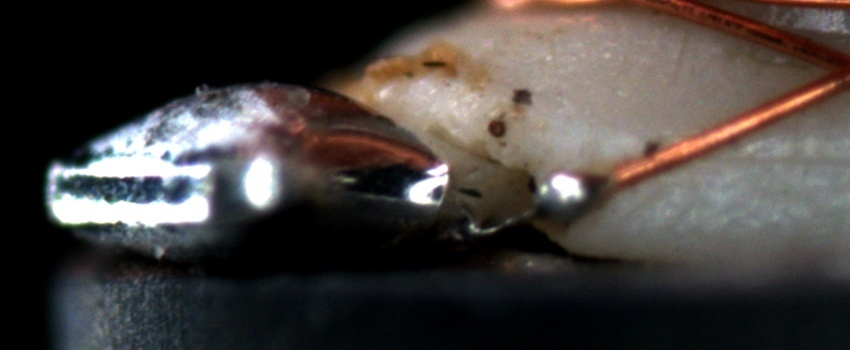CL: (802, 39, 849, 101)
DL: (701, 125, 849, 188)
TB: (524, 158, 613, 230)
TS: (460, 175, 611, 236)
TTCW: (470, 142, 678, 240)
